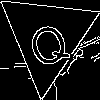Q: (22, 12, 73, 73)
